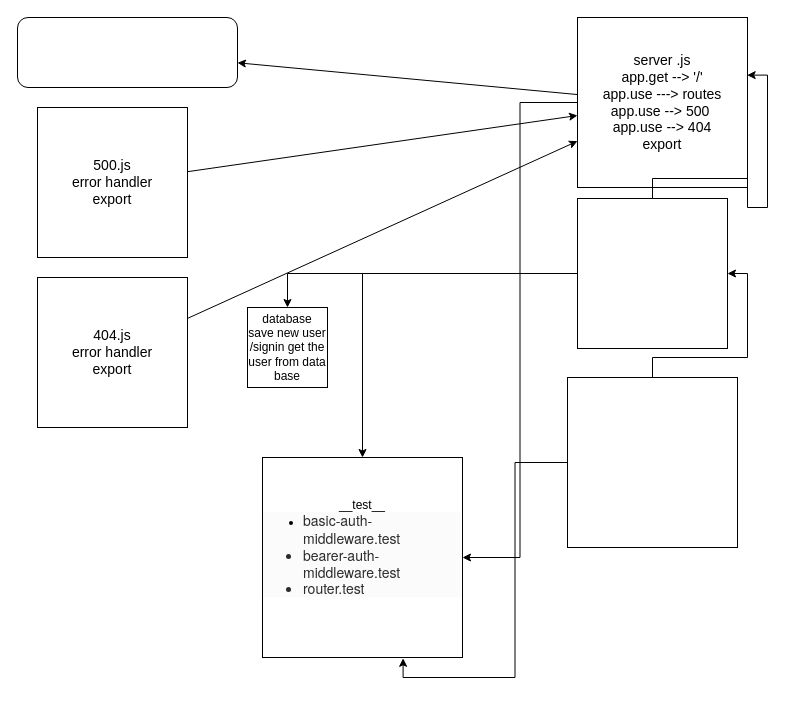
The diagram is 793 pixels wide and 703 high, and some of its shapes have lost their labels. Here are the shapes that lost their labels. From the top down, the box of each, then its label:
(16, 16, 238, 88): index.js to start the server npm start/nodemon
(576, 198, 728, 348): auth router router post signin/signup router get users/secret
(566, 376, 738, 548): basic and bearer auth middlewear
